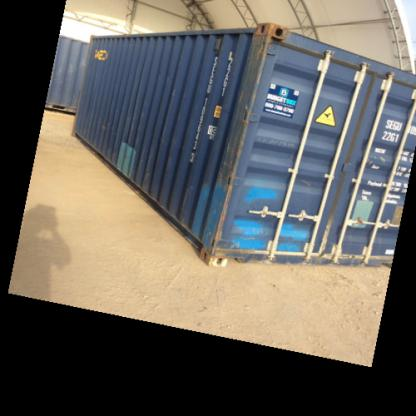Damage: (200, 166, 242, 259), (218, 92, 262, 169), (240, 20, 286, 92), (305, 219, 339, 254), (212, 240, 265, 260), (338, 249, 373, 264)
